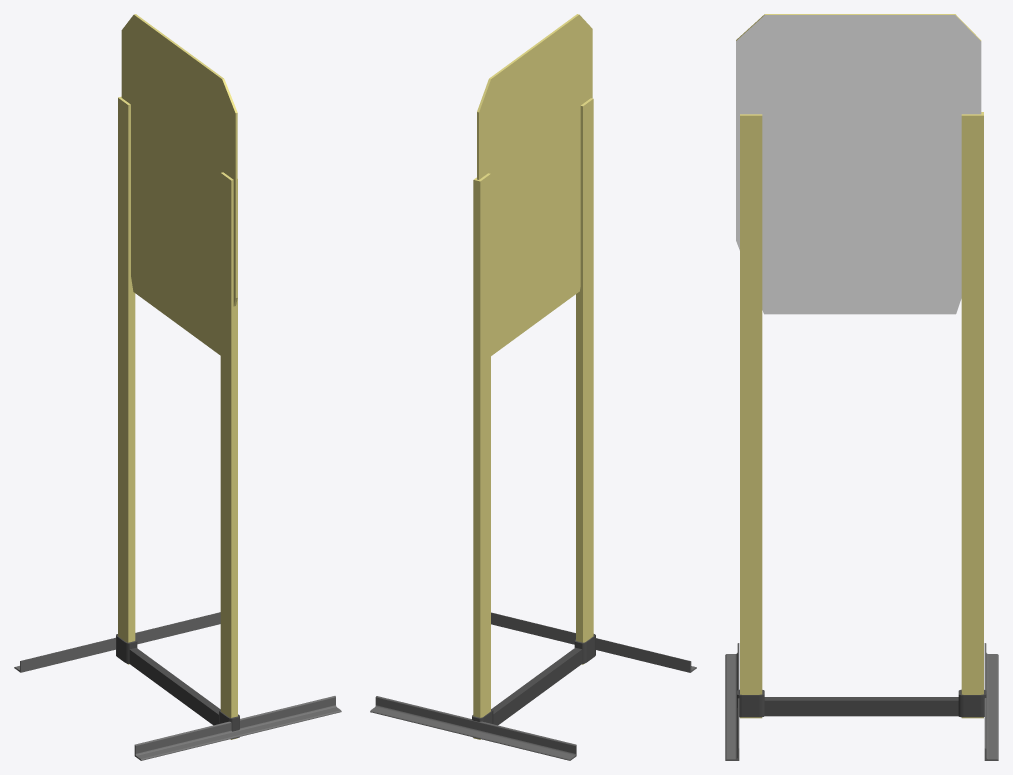
Rendered from target.glb.
3 views of the same model, side by side, from view 1: azimuth 30°, elevation 25°; view 2: azimuth 150°, elevation 25°; view 3: azimuth 270°, elevation 25° (orthographic). The views are drawn at different scales.
Visible parts, largest first — view 1: _G-Object.003 (Loose Mesh), _G-Object.004 (Loose Mesh), G-Object.006, G-Object.005, G-Object.007; view 2: _G-Object.003 (Loose Mesh), _G-Object.004 (Loose Mesh), G-Object.007, G-Object.005, G-Object.006; view 3: _G-Object.003 (Loose Mesh), _G-Object.004 (Loose Mesh), G-Object.005, G-Object.007, G-Object.006.
Boxes of the visible parts, bbox=[...] form: _G-Object.003 (Loose Mesh): bbox=[121, 14, 237, 355]; _G-Object.004 (Loose Mesh): bbox=[118, 96, 237, 739]; G-Object.006: bbox=[134, 696, 341, 760]; G-Object.005: bbox=[116, 634, 239, 739]; G-Object.007: bbox=[14, 612, 220, 672]; _G-Object.003 (Loose Mesh): bbox=[477, 14, 592, 355]; _G-Object.004 (Loose Mesh): bbox=[473, 98, 593, 739]; G-Object.007: bbox=[370, 696, 576, 760]; G-Object.005: bbox=[472, 634, 595, 738]; G-Object.006: bbox=[491, 612, 696, 672]; _G-Object.003 (Loose Mesh): bbox=[736, 14, 981, 314]; _G-Object.004 (Loose Mesh): bbox=[740, 112, 983, 718]; G-Object.005: bbox=[737, 689, 986, 717]; G-Object.007: bbox=[984, 643, 998, 760]; G-Object.006: bbox=[725, 643, 739, 760].
Bounding box in the file's own units: 0.4572 × 1.42 × 0.5009.
